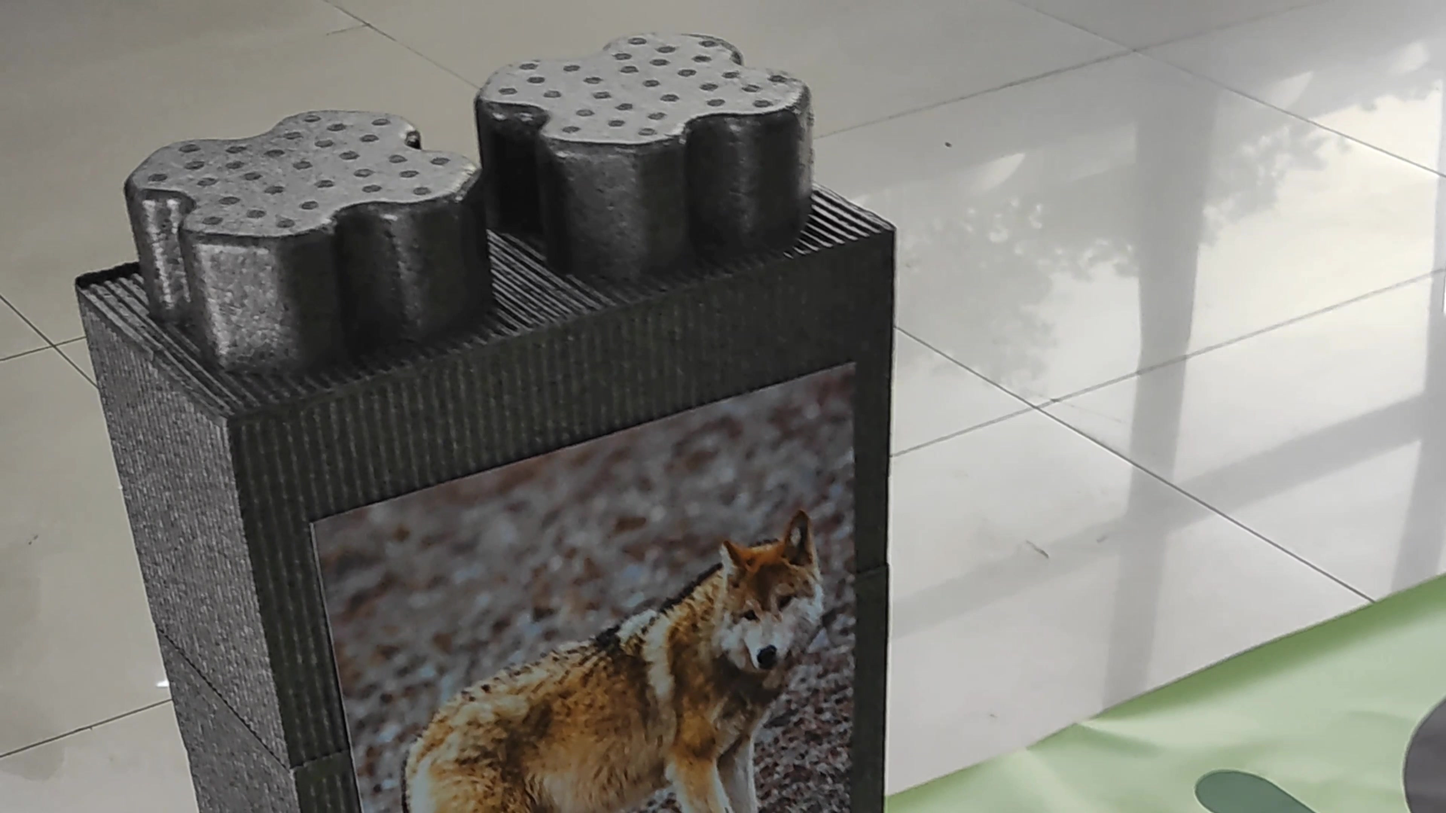wolf: (365, 495, 831, 813)
